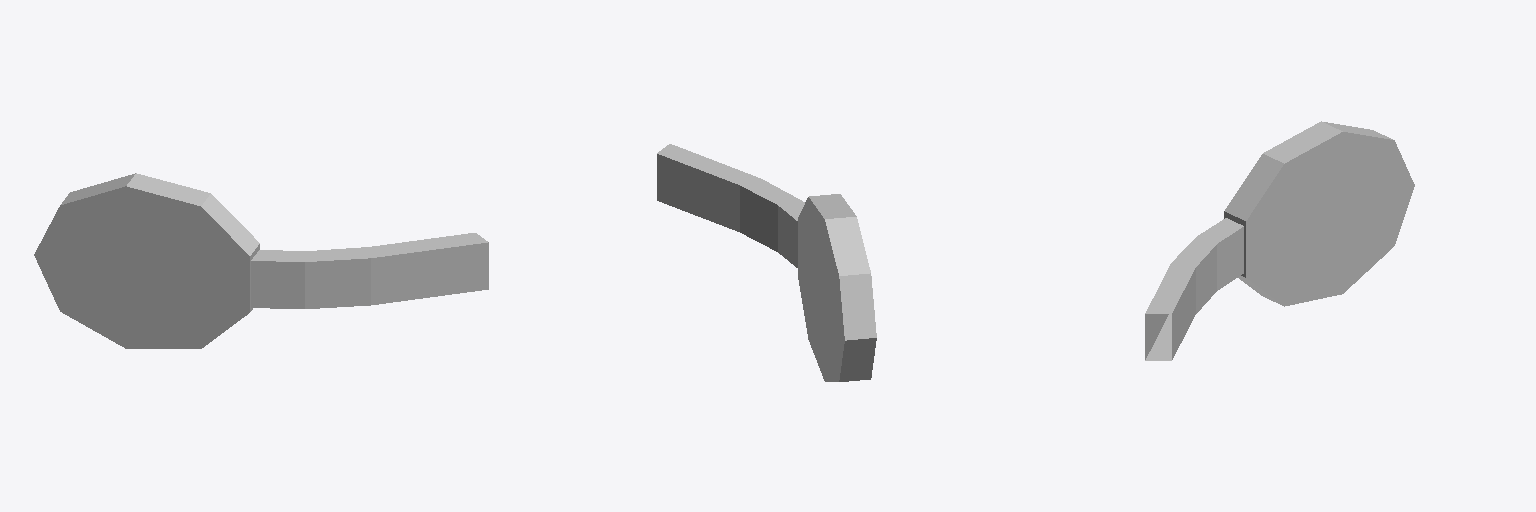
Rendered from AltoSaxKeyDown14.obj.
3 views of the same model, side by side, from view 1: azimuth 30°, elevation 25°; view 2: azimuth 150°, elevation 25°; view 3: azimuth 270°, elevation 25° (orthographic).
Parts seen in each view (by area): view 1: Converted object 0(m1); view 2: Converted object 0(m1); view 3: Converted object 0(m1).
Part boxes in pixels (bbox=[...]): Converted object 0(m1): bbox=[34, 173, 488, 348]; Converted object 0(m1): bbox=[657, 144, 876, 381]; Converted object 0(m1): bbox=[1145, 121, 1414, 360].
Bounding box in the file's own units: 1.76 × 0.8255 × 1.24.